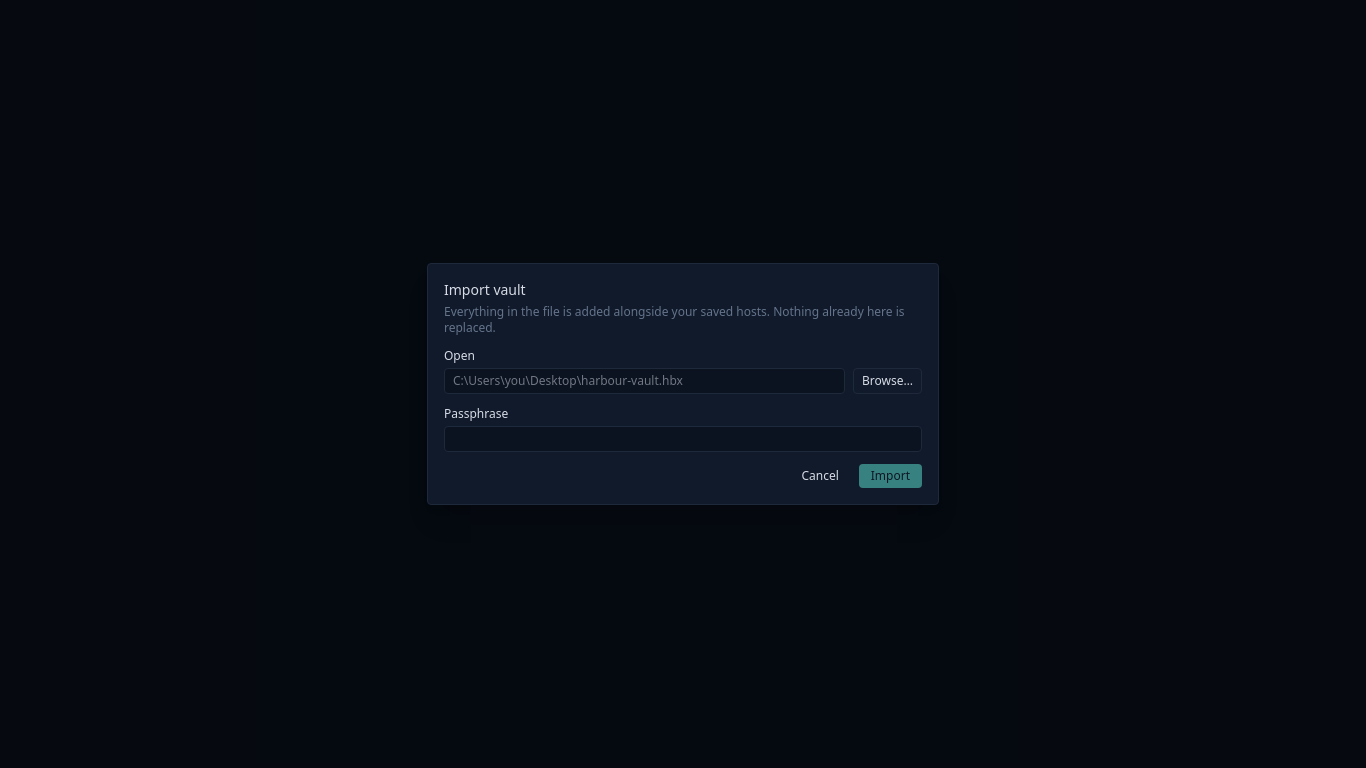
Test case: importing a vault › reports a wrong passphrase without importing anything
The width and height of the screenshot is (1366, 768).
Step 1. Type "vault.hbx" into the field labelled "Open" → (644,381), box [444,368,845,394]
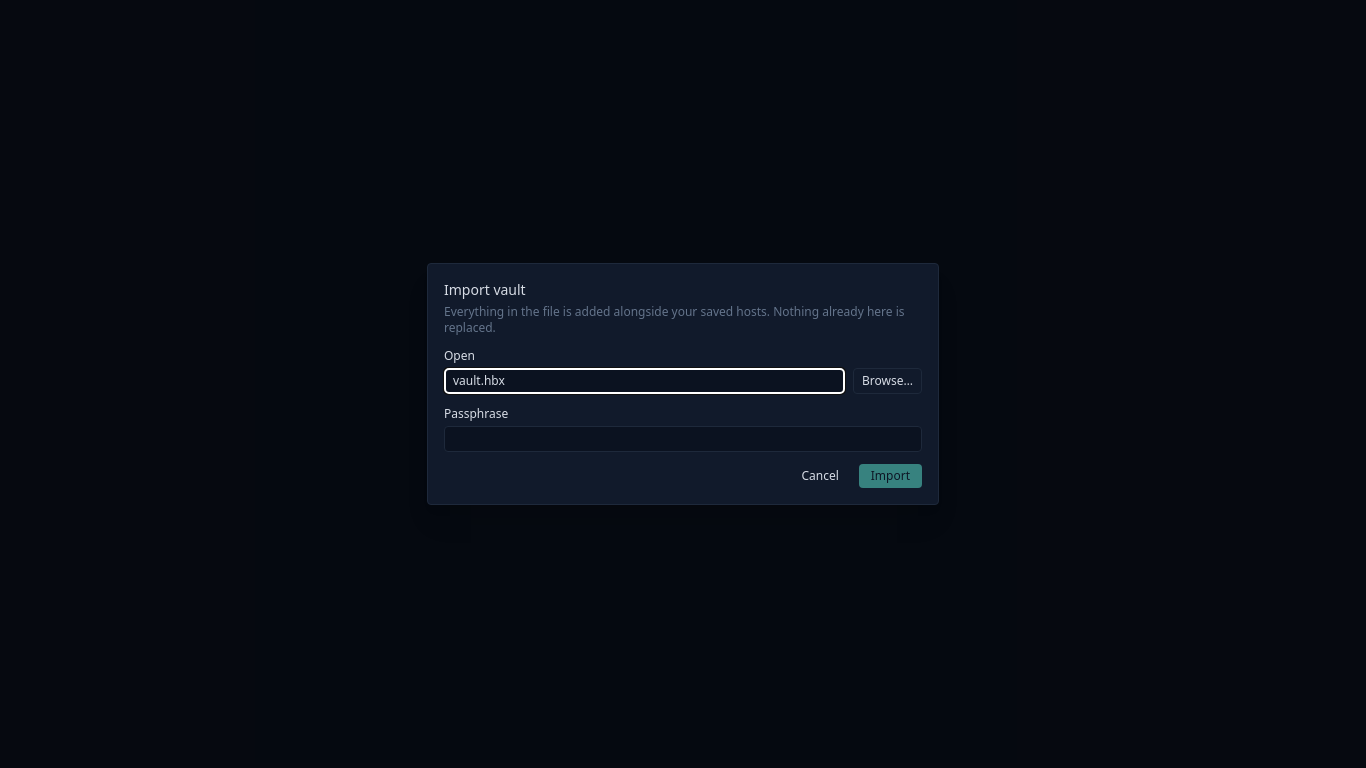
Step 2. Type "nope" into the password field labelled "Passphrase" → (683,439), box [444,426,922,452]
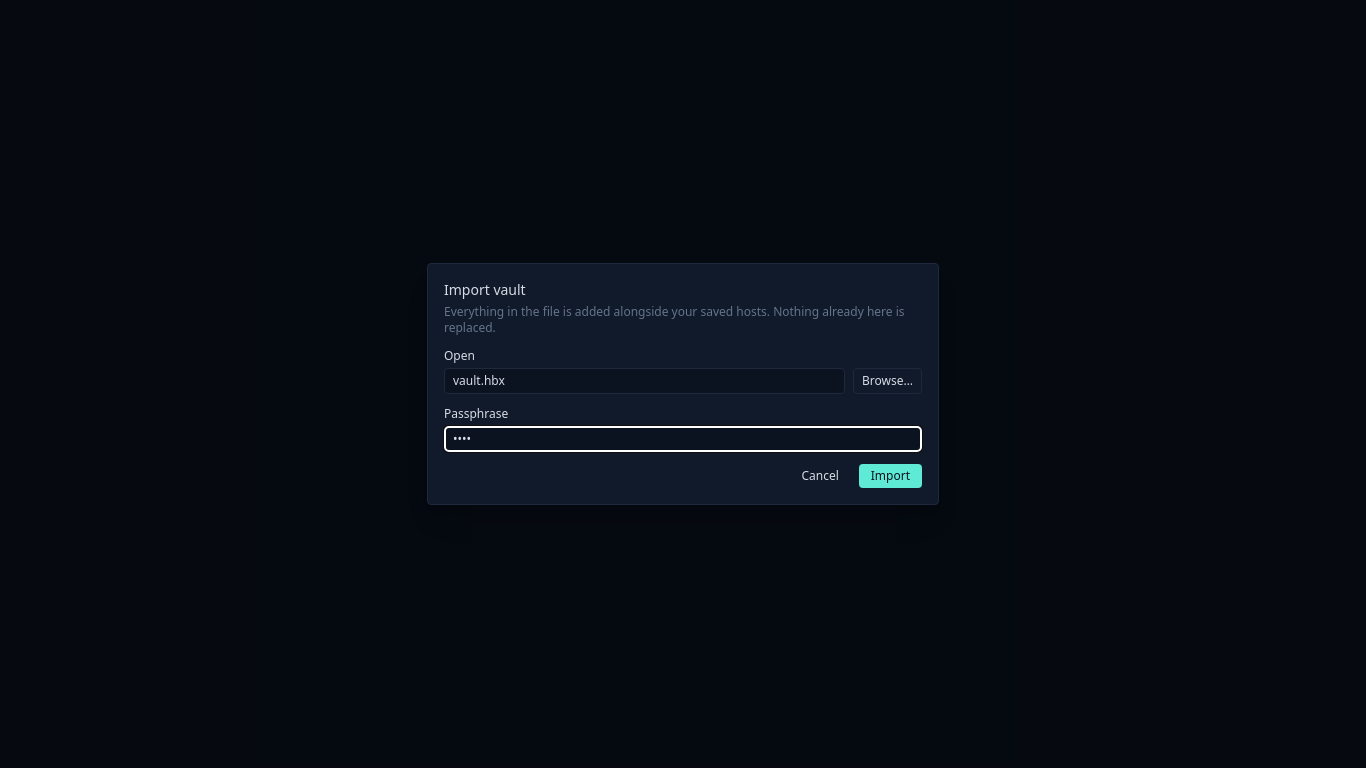
Step 3. Click the button "Import" → (890,476), box [859,464,922,488]
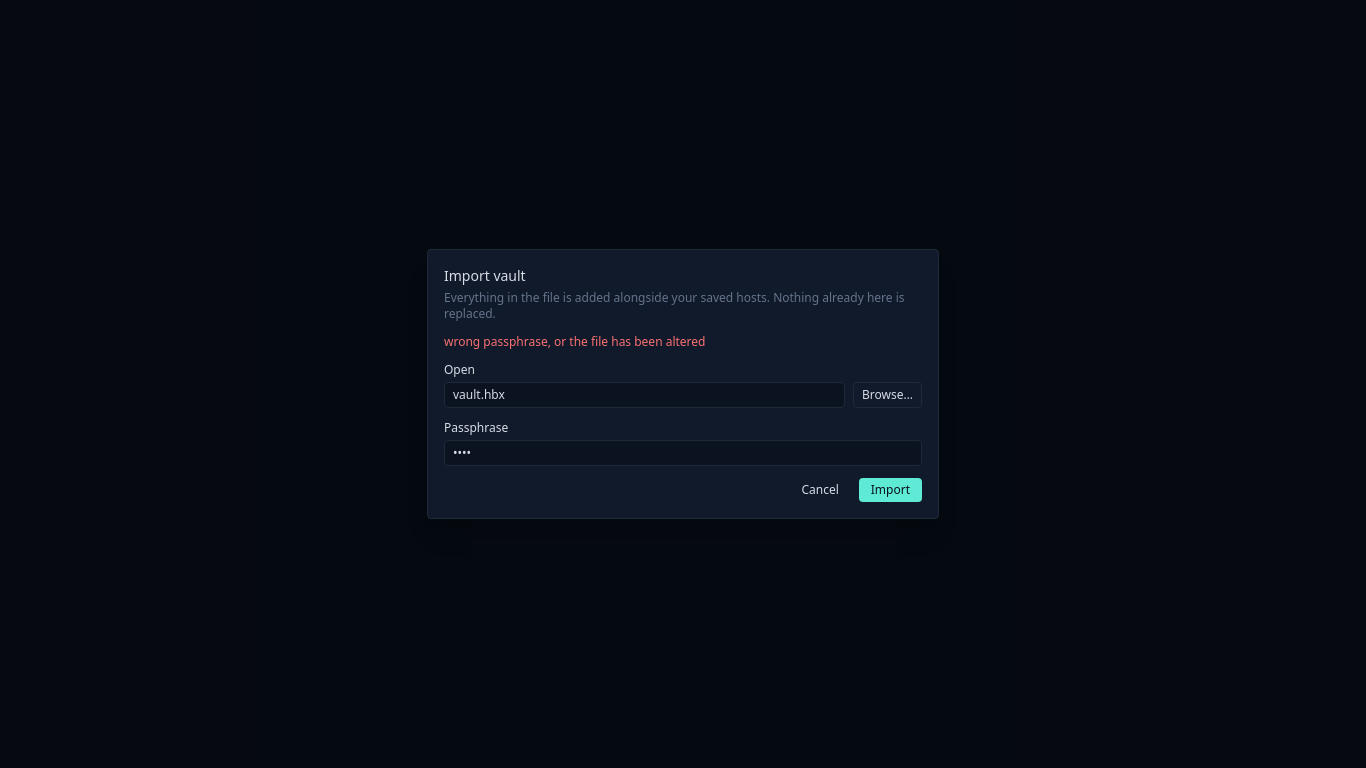
Check: the message shows "wrong passphrase", box [444,333,706,350]
